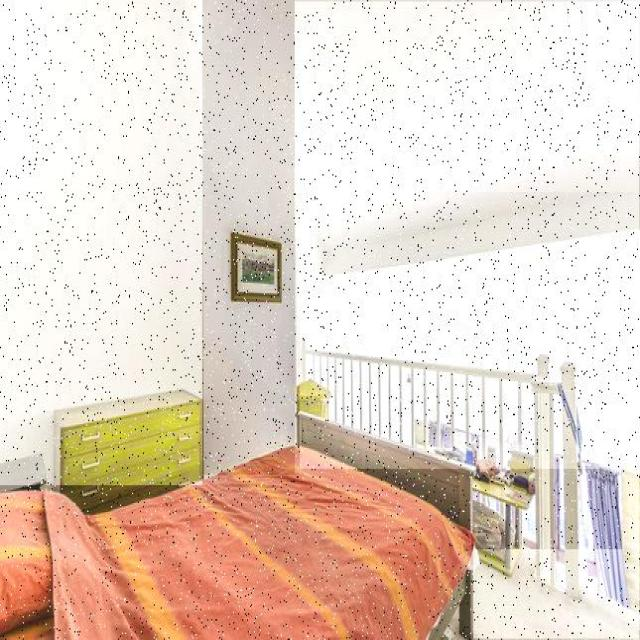Wall: (222, 3, 639, 252), (0, 0, 202, 485), (300, 193, 640, 469), (199, 0, 295, 475), (231, 174, 296, 403), (474, 551, 640, 639), (623, 471, 640, 612)
